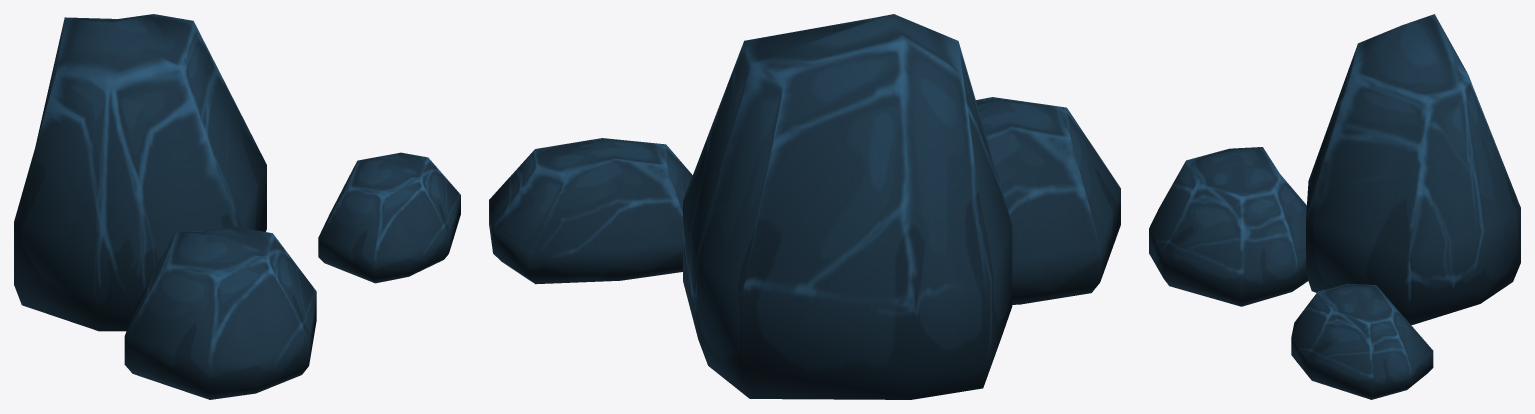
The model's file is RockGroup3.FBX.
The picture shows the model from 3 angles, left to right: view 1: azimuth 30°, elevation 25°; view 2: azimuth 150°, elevation 25°; view 3: azimuth 270°, elevation 25°; orthographic projection. The views are drawn at different scales.
Visible parts, largest first — view 1: RockGroup3; view 2: RockGroup3; view 3: RockGroup3.
Boxes of the visible parts, x1,y1,x2,y2 form: RockGroup3: (14,14,460,399); RockGroup3: (489,14,1120,399); RockGroup3: (1149,14,1520,399).
Size of the model in its own units: 44.79 by 27.26 by 39.03.
